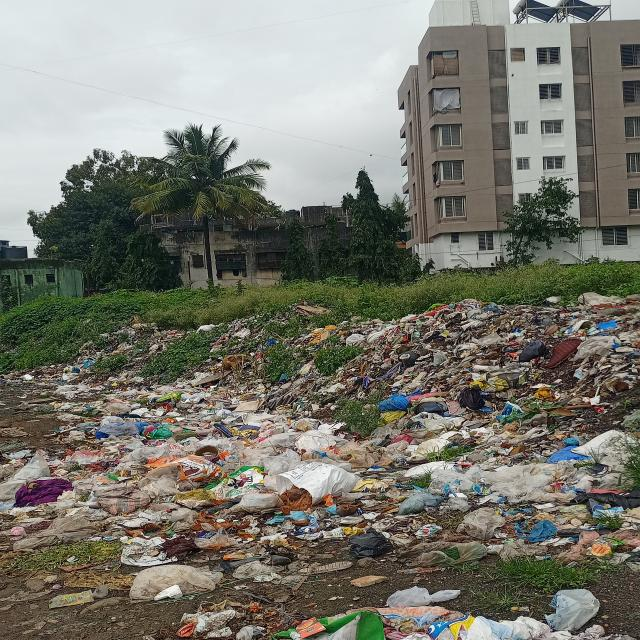garbage: (0, 321, 640, 636)
